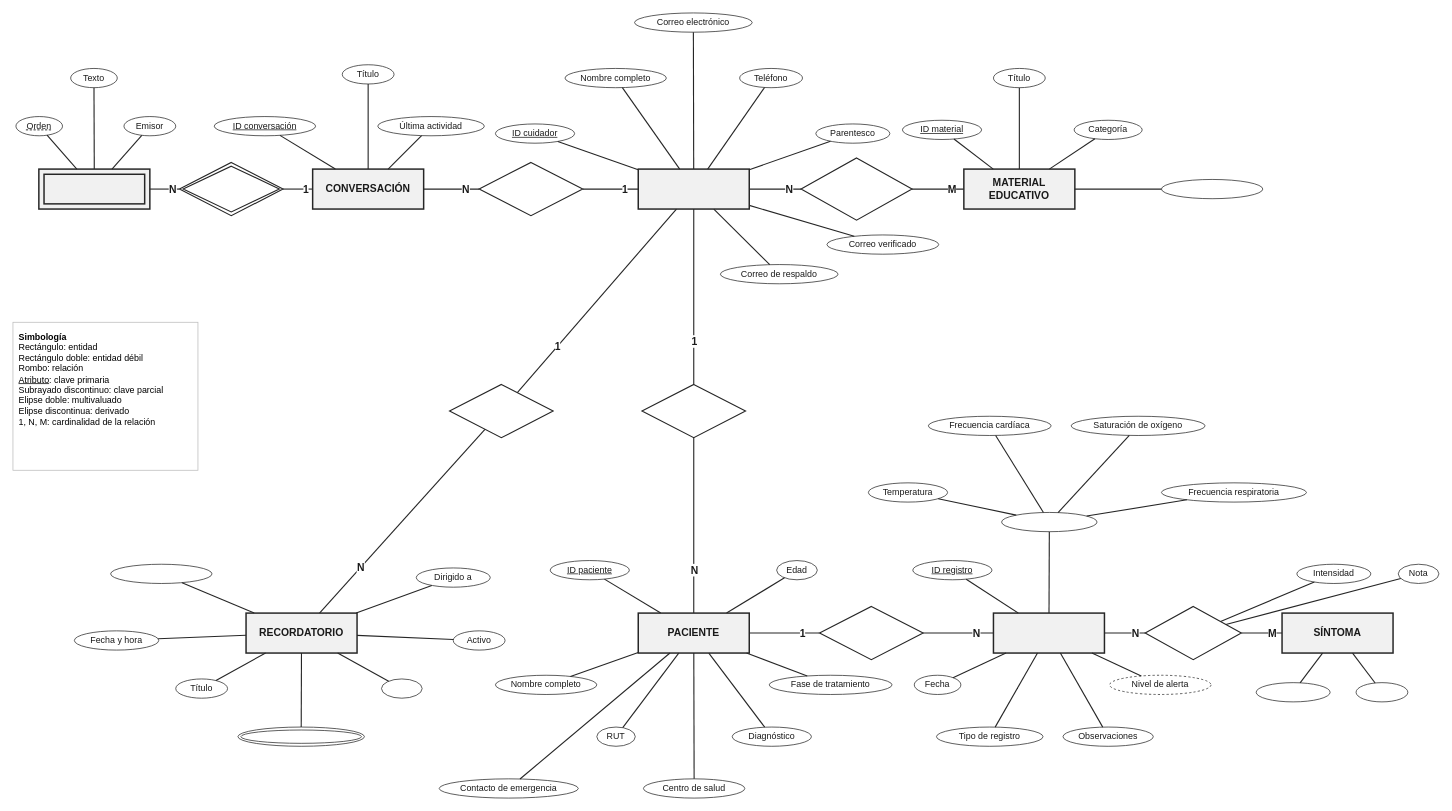
The diagram is 1452 pixels wide and 811 high, and some of its shapes have lost their labels. Each missing label, with the box of its shape:
Atiende: (641, 384, 746, 438)
Contiene: (179, 162, 283, 216)
CUIDADOR: (637, 168, 750, 209)
Días de repetición: (237, 726, 364, 746)
ID recordatorio: (110, 564, 212, 583)
ID síntoma: (1255, 682, 1330, 702)
Incluye: (1144, 606, 1242, 660)
Inicia: (478, 162, 583, 216)
Marca como favorito: (800, 157, 912, 220)
MENSAJE: (38, 168, 150, 209)
Nombre: (1355, 682, 1408, 702)
Posee: (819, 606, 923, 660)
Programa: (449, 384, 553, 438)
REGISTRO CLÍNICO: (992, 612, 1105, 653)
Signos vitales: (1001, 512, 1097, 532)
Tipo: (381, 678, 422, 698)
Tipo de archivo: (1161, 179, 1263, 199)
